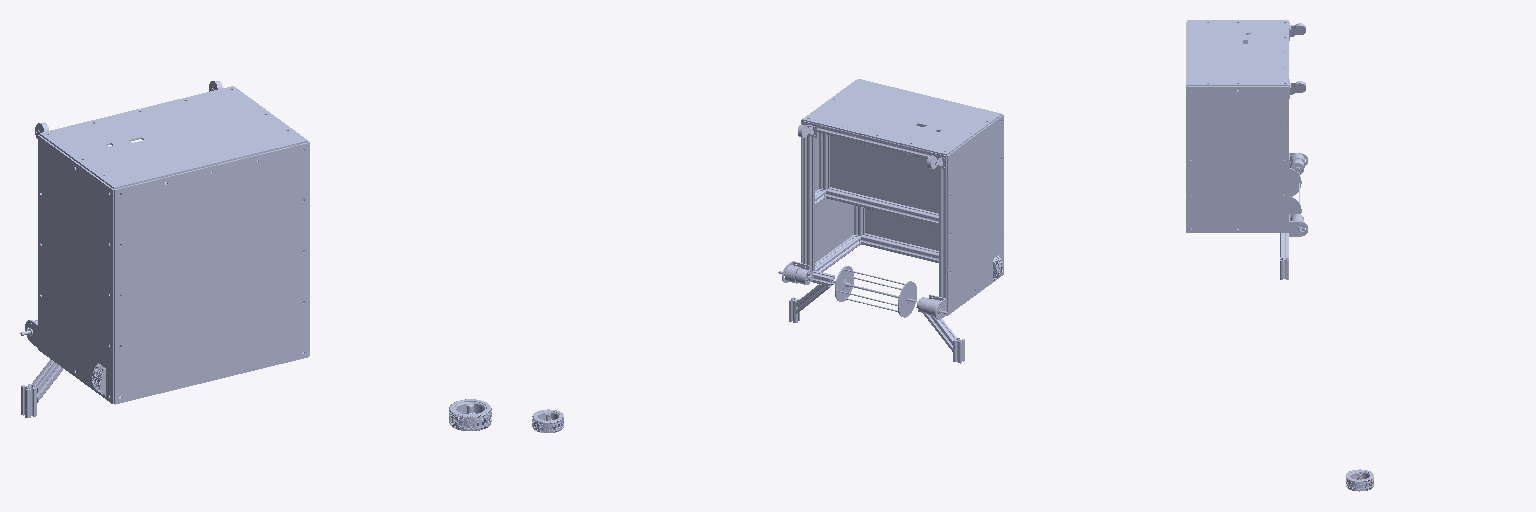
robot.urdf — ud.SLDASM:
<?xml version="1.0" encoding="utf-8"?>
<!-- This URDF was automatically created by SolidWorks to URDF Exporter! Originally created by Stephen Brawner (brawner@gmail.com) 
     Commit Version: 1.6.0-4-g7f85cfe  Build Version: 1.6.7995.38578
     For more information, please see http://wiki.ros.org/sw_urdf_exporter -->
<robot
  name="ud.SLDASM">
  <link
    name="base_link">
    <inertial>
      <origin
        xyz="0.200083282092305 -0.345577438803415 0.321995272575587"
        rpy="0 0 0" />
      <mass
        value="2.46111570106431" />
      <inertia
        ixx="0.019518636612731"
        ixy="-1.67365091676551E-06"
        ixz="9.97999256701784E-08"
        iyy="0.027158598908191"
        iyz="3.03378644164839E-08"
        izz="0.0164587898041536" />
    </inertial>
    <visual>
      <origin
        xyz="0 0 0"
        rpy="0 0 0" />
      <geometry>
        <mesh
          filename="package://ud.SLDASM/meshes/base_link.STL" />
      </geometry>
      <material
        name="">
        <color
          rgba="0.792156862745098 0.819607843137255 0.933333333333333 1" />
      </material>
    </visual>
    <collision>
      <origin
        xyz="0 0 0"
        rpy="0 0 0" />
      <geometry>
        <mesh
          filename="package://ud.SLDASM/meshes/base_link.STL" />
      </geometry>
    </collision>
  </link>
  <link
    name="Empty_Link">
    <inertial>
      <origin
        xyz="-0.196930205490685 0.000645001146101498 0.115489127586318"
        rpy="0 0 0" />
      <mass
        value="2.39076630389986" />
      <inertia
        ixx="0.016428315433968"
        ixy="9.97999666072111E-08"
        ixz="-3.01919141661453E-08"
        iyy="0.0194670650483305"
        iyz="1.67365090444636E-06"
        izz="0.0271281249801712" />
    </inertial>
    <visual>
      <origin
        xyz="0 0 0"
        rpy="0 0 0" />
      <geometry>
        <mesh
          filename="package://ud.SLDASM/meshes/Empty_Link.STL" />
      </geometry>
      <material
        name="">
        <color
          rgba="0.792156862745098 0.819607843137255 0.933333333333333 1" />
      </material>
    </visual>
    <collision>
      <origin
        xyz="0 0 0"
        rpy="0 0 0" />
      <geometry>
        <mesh
          filename="package://ud.SLDASM/meshes/Empty_Link.STL" />
      </geometry>
    </collision>
  </link>
  <joint
    name="joint"
    type="fixed">
    <origin
      xyz="0.201009603273343 -0.456707763510242 0.130408345851104"
      rpy="1.5707963267949 1.5707963267949 0" />
    <parent
      link="base_link" />
    <child
      link="Empty_Link" />
    <axis
      xyz="0 0 0" />
  </joint>
  <link
    name="banhtrai">
    <inertial>
      <origin
        xyz="-4.69488337095925E-11 5.99277849566704E-11 -0.434883582983331"
        rpy="0 0 0" />
      <mass
        value="0.0351746985822266" />
      <inertia
        ixx="1.52369212433714E-05"
        ixy="4.72650666598025E-10"
        ixz="-2.96433597259489E-14"
        iyy="1.52372278594696E-05"
        iyz="2.44250957142097E-14"
        izz="2.5785782200264E-05" />
    </inertial>
    <visual>
      <origin
        xyz="0 0 0"
        rpy="0 0 0" />
      <geometry>
        <mesh
          filename="package://ud.SLDASM/meshes/banhtrai.STL" />
      </geometry>
      <material
        name="">
        <color
          rgba="0.792156862745098 0.819607843137255 0.933333333333333 1" />
      </material>
    </visual>
    <collision>
      <origin
        xyz="0 0 0"
        rpy="0 0 0" />
      <geometry>
        <mesh
          filename="package://ud.SLDASM/meshes/banhtrai.STL" />
      </geometry>
    </collision>
  </link>
  <joint
    name="J_L"
    type="continuous">
    <origin
      xyz="-0.01 0.22227 -0.037"
      rpy="-1.5708 0 0" />
    <parent
      link="Empty_Link" />
    <child
      link="banhtrai" />
    <axis
      xyz="0 0 0" />
  </joint>
  <link
    name="banhphai">
    <inertial>
      <origin
        xyz="6.17497719623827E-12 -7.48026085517495E-11 -0.43158358298332"
        rpy="0 0 0" />
      <mass
        value="0.0351746985822281" />
      <inertia
        ixx="1.52374489423172E-05"
        ixy="3.26700798551985E-10"
        ixz="1.12954543041834E-14"
        iyy="1.52367001603772E-05"
        iyz="-3.6719058920809E-14"
        izz="2.57857822002645E-05" />
    </inertial>
    <visual>
      <origin
        xyz="0 0 0"
        rpy="0 0 0" />
      <geometry>
        <mesh
          filename="package://ud.SLDASM/meshes/banhphai.STL" />
      </geometry>
      <material
        name="">
        <color
          rgba="0.792156862745098 0.819607843137255 0.933333333333333 1" />
      </material>
    </visual>
    <collision>
      <origin
        xyz="0 0 0"
        rpy="0 0 0" />
      <geometry>
        <mesh
          filename="package://ud.SLDASM/meshes/banhphai.STL" />
      </geometry>
    </collision>
  </link>
  <joint
    name="J_R"
    type="continuous">
    <origin
      xyz="-0.01 -0.198 -0.037"
      rpy="1.5708 0 0" />
    <parent
      link="Empty_Link" />
    <child
      link="banhphai" />
    <axis
      xyz="0 0 -1" />
  </joint>
</robot>

--- Facts derived from the render (not from the file) ---
3 views of the same robot in one strip: view 1: azimuth 30°, elevation 25°; view 2: azimuth 150°, elevation 25°; view 3: azimuth 270°, elevation 25° (orthographic).
Robot: ud.SLDASM — 4 links, 3 joints (2 continuous, 1 fixed); root link base_link; default pose: all joints at 0.
Links seen in each view (by area): view 1: Empty_Link, banhtrai; view 2: Empty_Link, banhtrai; view 3: Empty_Link, banhtrai.
Link boxes in pixels (x1=…): Empty_Link: x1=20, y1=81, x2=309, y2=417; banhtrai: x1=449, y1=399, x2=491, y2=430; Empty_Link: x1=778, y1=79, x2=1003, y2=363; banhtrai: x1=532, y1=409, x2=563, y2=432; Empty_Link: x1=1186, y1=20, x2=1307, y2=279; banhtrai: x1=1346, y1=469, x2=1373, y2=491.
Bounding box of the posed robot: 0.9648 × 0.4444 × 0.7917 m (x, y, z).
3 mesh visuals loaded from 4 distinct referenced files (3 binary STL); not drawn: 1 (reference not matched to a file when rendering).
